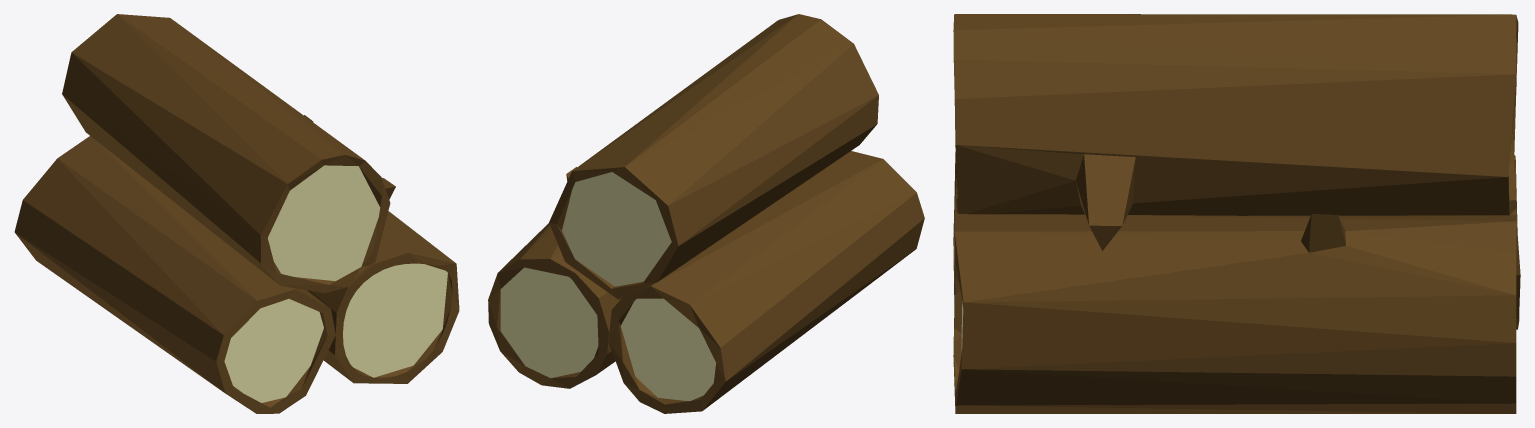
The picture shows the model from 3 angles, left to right: view 1: azimuth 30°, elevation 25°; view 2: azimuth 150°, elevation 25°; view 3: azimuth 270°, elevation 25°; orthographic projection. The views are drawn at different scales.
Parts seen in each view (by area): view 1: Logs; view 2: Logs; view 3: Logs.
Boxes of the visible parts, <box> form: Logs: <box>14,14,459,413</box>; Logs: <box>488,14,924,413</box>; Logs: <box>953,14,1520,413</box>.
Bounding box in the file's own units: 198 × 189 × 285.
